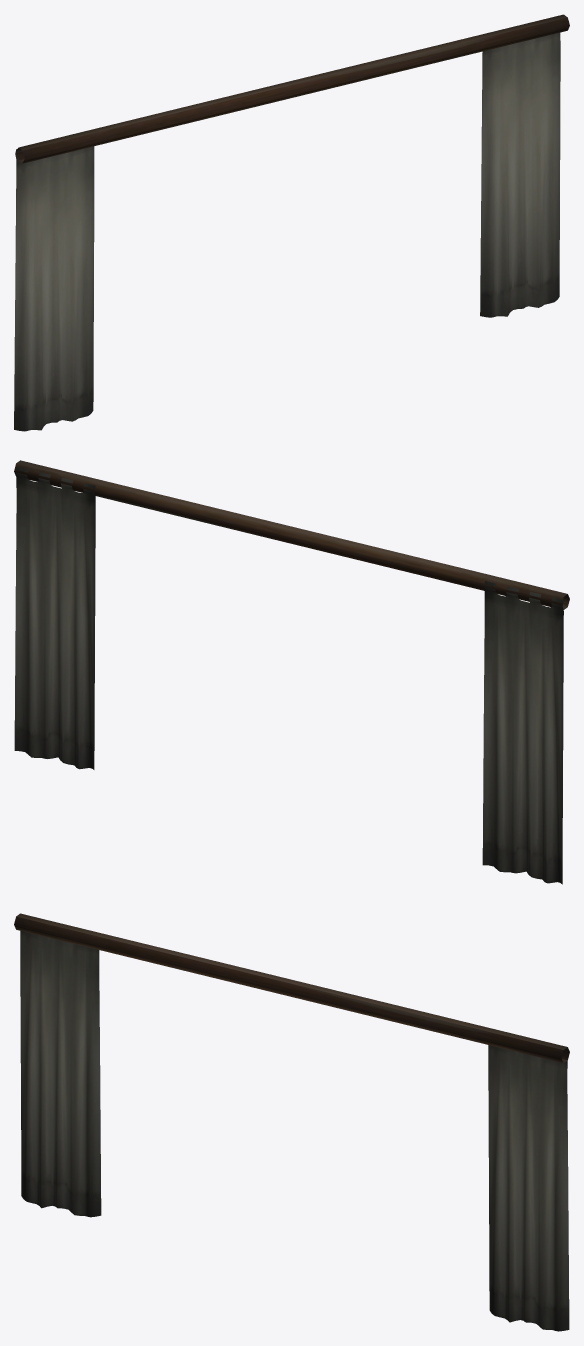
File: cortinas.obj
The picture shows the model from 3 angles, top to bottom: view 1: azimuth 30°, elevation 25°; view 2: azimuth 150°, elevation 25°; view 3: azimuth 330°, elevation 25°; orthographic projection.
Parts seen in each view (by area): view 1: curtain.001_meshId127.001; view 2: curtain.001_meshId127.001; view 3: curtain.001_meshId127.001.
Part boxes in pixels (box(x1,y1,x2,y2)): curtain.001_meshId127.001: box(14, 14, 569, 431); curtain.001_meshId127.001: box(14, 460, 569, 884); curtain.001_meshId127.001: box(14, 913, 569, 1331).
Size of the model in its own units: 15.33 by 7.7 by 0.4414.
2 materials, 2 textured.
